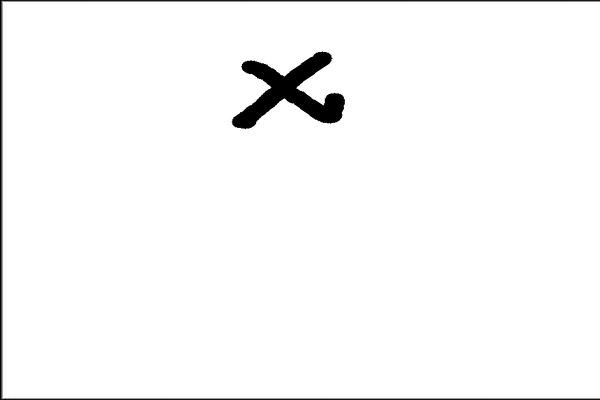X: (209, 38, 349, 141)
